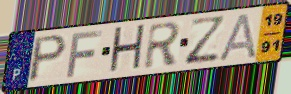A: (217, 11, 259, 62)
F: (65, 28, 105, 79)
H: (107, 22, 147, 76)
P: (26, 32, 70, 84)
R: (142, 20, 184, 71)
Z: (183, 15, 229, 68)
